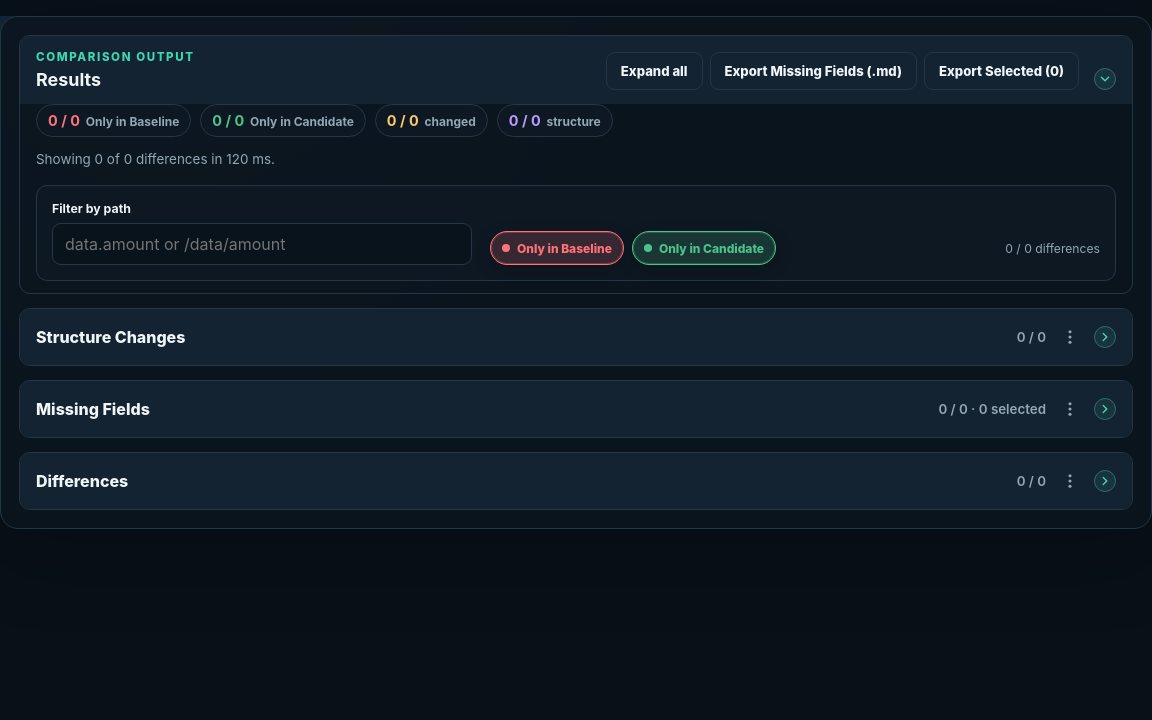
it: ComparisonResults disclosures › disables section actions that have nothing to act on
The image size is (1152, 720).
Click the button named "Differences actions" at (1070, 481), box [1056,467,1084,495]
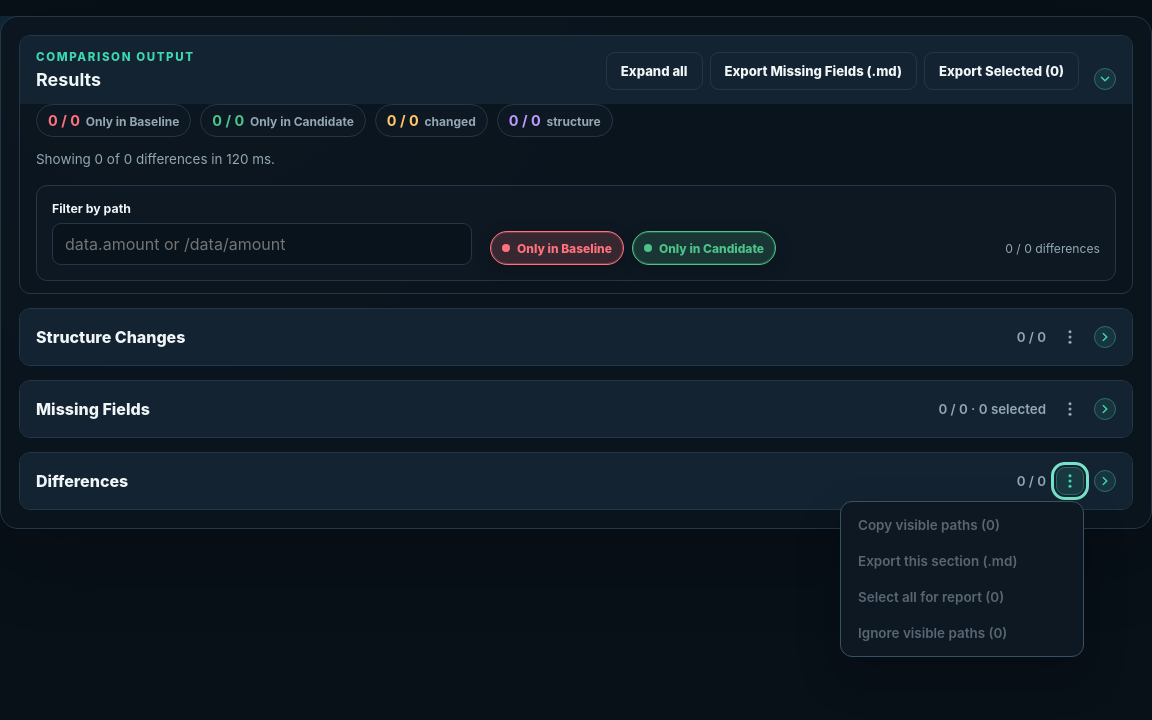
Now the menu item "Copy visible paths (0)" is disabled, box [847,508,1077,542]
Now the menu item "Export this section (.md)" is disabled, box [847,544,1077,578]
Now the menu item "Select all for report (0)" is disabled, box [847,580,1077,614]
